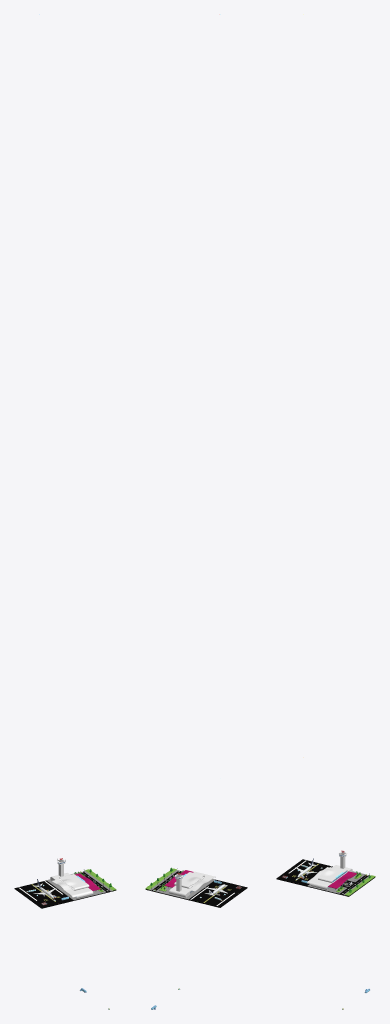
The picture shows the model from 3 angles, left to right: view 1: azimuth 30°, elevation 25°; view 2: azimuth 150°, elevation 25°; view 3: azimuth 330°, elevation 25°; orthographic projection. The views are drawn at different scales.
Parts seen in each view (by area): view 1: ground; view 2: ground; view 3: ground.
Boxes of the visible parts, x1,y1,x2,y2 form: ground: [14, 859, 116, 908]; ground: [145, 867, 247, 907]; ground: [276, 852, 375, 896].
Size of the model in its own units: 134 by 1701 by 86.26.
61 materials, 4 textured.
